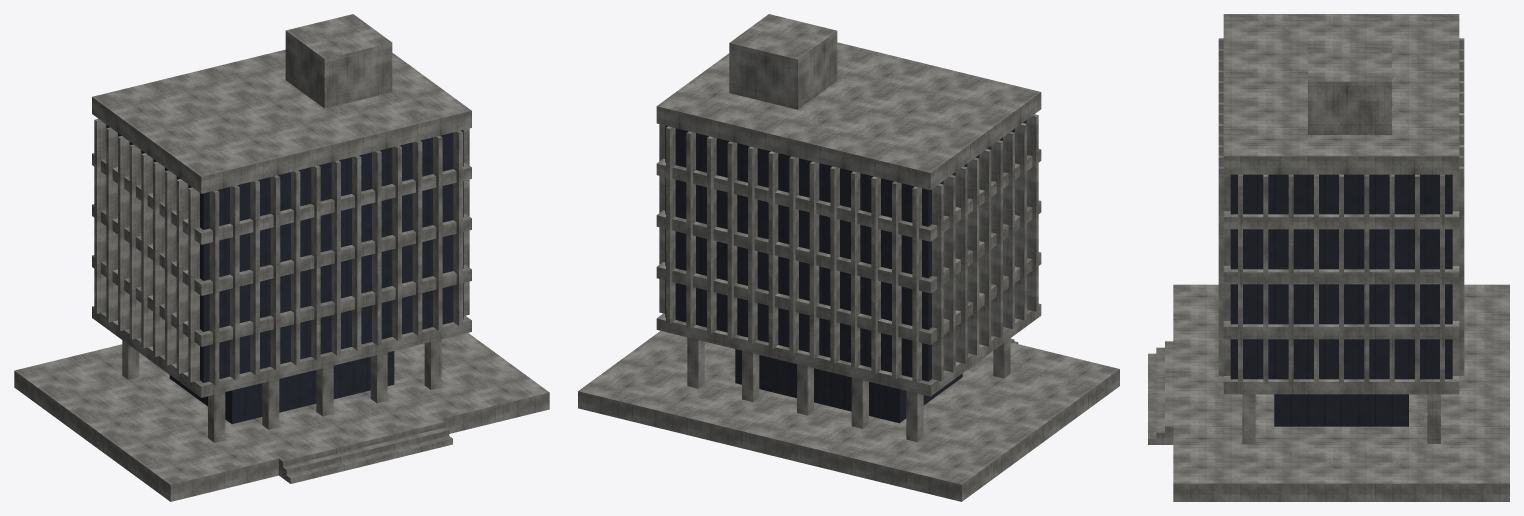
Rendered from brutalist.obj.
The picture shows the model from 3 angles, left to right: view 1: azimuth 30°, elevation 25°; view 2: azimuth 150°, elevation 25°; view 3: azimuth 270°, elevation 25°; orthographic projection. The views are drawn at different scales.
Parts seen in each view (by area): view 1: Slabs, Fins, Podium, Glass, RoofTower, Columns; view 2: Slabs, Fins, Podium, Glass, RoofTower, Columns; view 3: Slabs, Podium, Glass, Fins, RoofTower, Columns.
Boxes of the visible parts, x1=… form: Slabs: x1=92, y1=49, x2=471, y2=397; Fins: x1=94, y1=118, x2=469, y2=385; Podium: x1=14, y1=333, x2=549, y2=501; Glass: x1=106, y1=124, x2=463, y2=423; RoofTower: x1=285, y1=14, x2=392, y2=108; Columns: x1=122, y1=339, x2=441, y2=442; Slabs: x1=656, y1=42, x2=1041, y2=396; Fins: x1=659, y1=114, x2=1038, y2=383; Podium: x1=578, y1=331, x2=1119, y2=501; Glass: x1=665, y1=120, x2=1026, y2=423; RoofTower: x1=729, y1=14, x2=837, y2=109; Columns: x1=687, y1=337, x2=1010, y2=442; Slabs: x1=1223, y1=14, x2=1459, y2=394; Podium: x1=1148, y1=284, x2=1509, y2=501; Glass: x1=1230, y1=174, x2=1452, y2=426; Fins: x1=1218, y1=38, x2=1464, y2=383; RoofTower: x1=1308, y1=46, x2=1391, y2=134; Columns: x1=1242, y1=394, x2=1440, y2=443.
Bounding box in the file's own units: 28 × 24.3 × 21.5.
2 materials, 2 textured.
